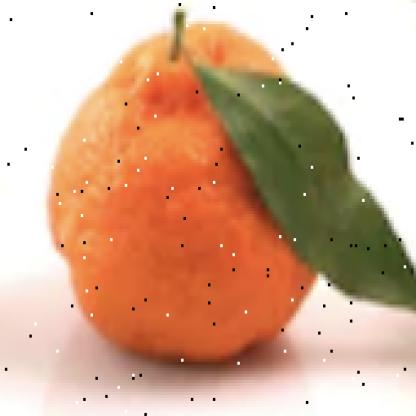fresh: (49, 15, 340, 363)
